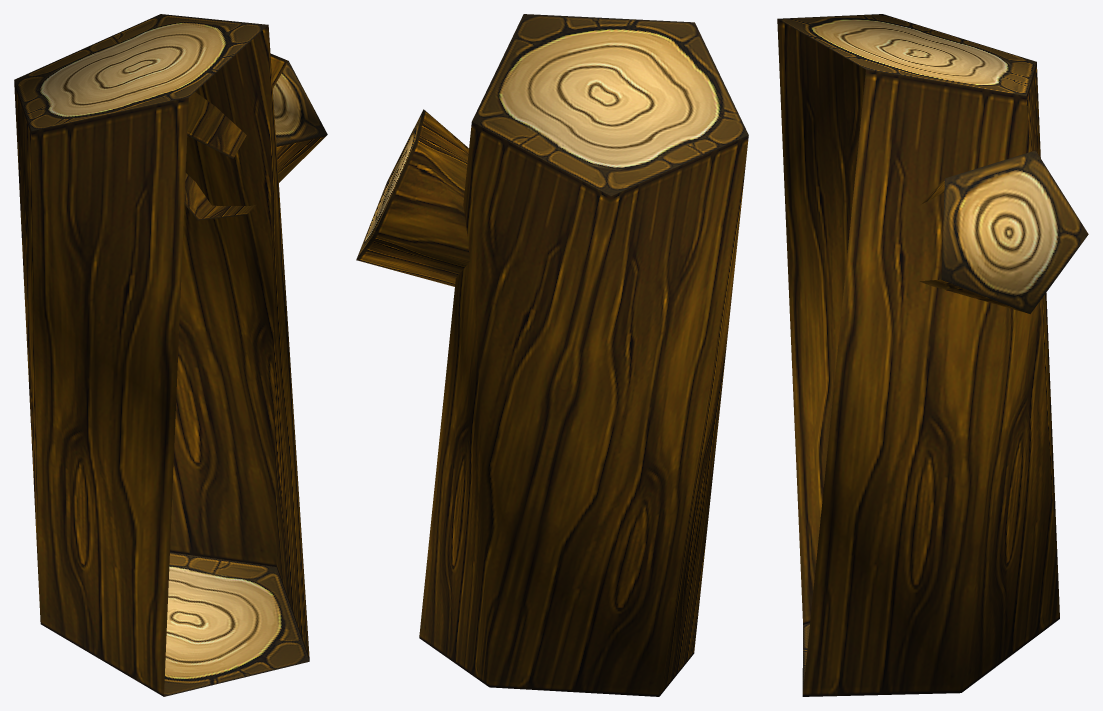
Rendered from Tree Log 01.FBX.
3 views of the same model, side by side, from view 1: azimuth 30°, elevation 25°; view 2: azimuth 150°, elevation 25°; view 3: azimuth 270°, elevation 25° (orthographic). The views are drawn at different scales.
Parts seen in each view (by area): view 1: env_treelog01; view 2: env_treelog01; view 3: env_treelog01.
Part boxes in pixels (x1,y1,x2,y2): env_treelog01: [14, 14, 327, 696]; env_treelog01: [356, 14, 748, 696]; env_treelog01: [777, 14, 1088, 696].
Size of the model in its own units: 70.83 by 128 by 58.1.
